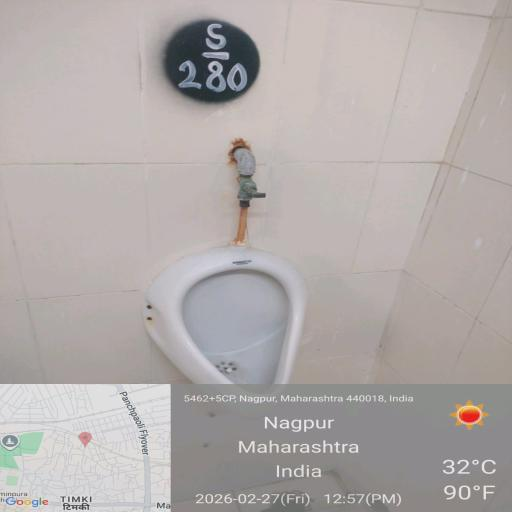clean_floor: (20, 28, 461, 240), (5, 374, 476, 512)
clean_urinal: (114, 237, 323, 420)
